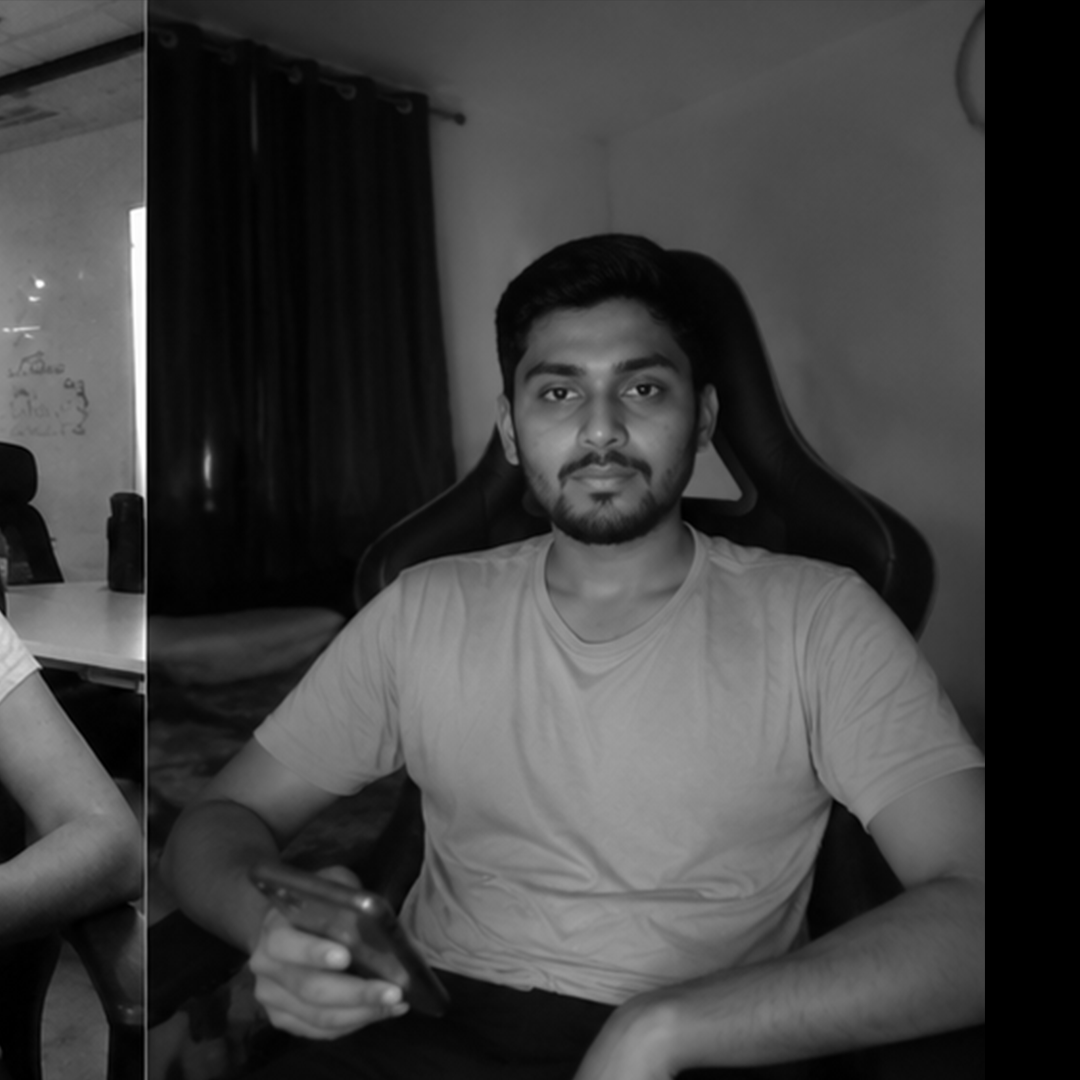Focused: (395, 164, 846, 941)
